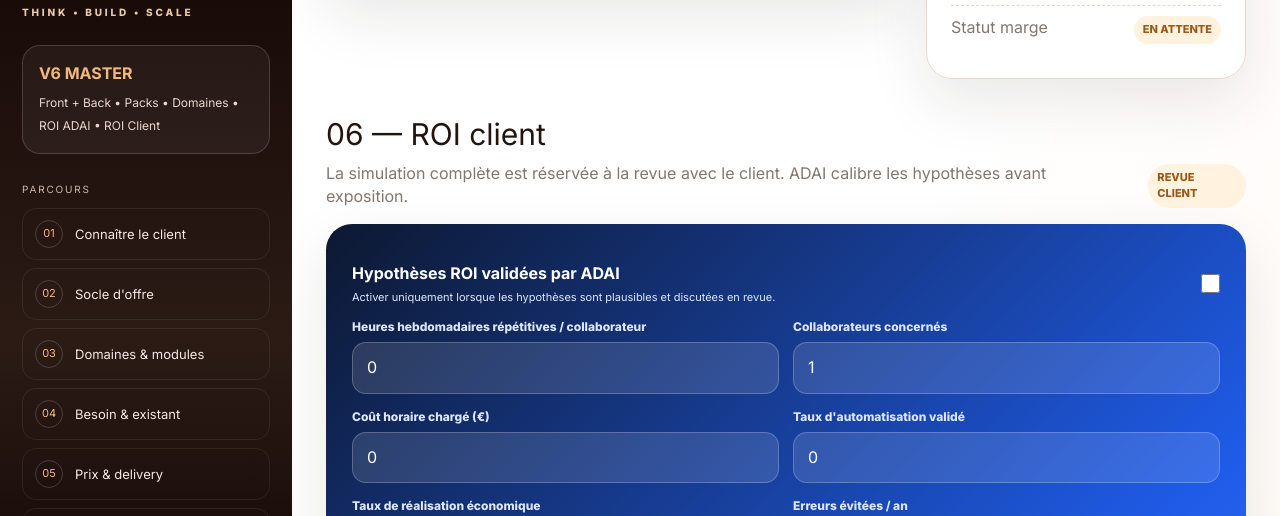
TC-13B — ROI CLIENT DISPLAY LOCK › shows ROI values after validation toggle
This screenshot has width=1280, height=516.
(page scrolled)
Click the checkbox labelled "Hypothèses ROI validées par ADAI".
click(1210, 284)  # box [1201,274,1220,294]
(page scrolled)
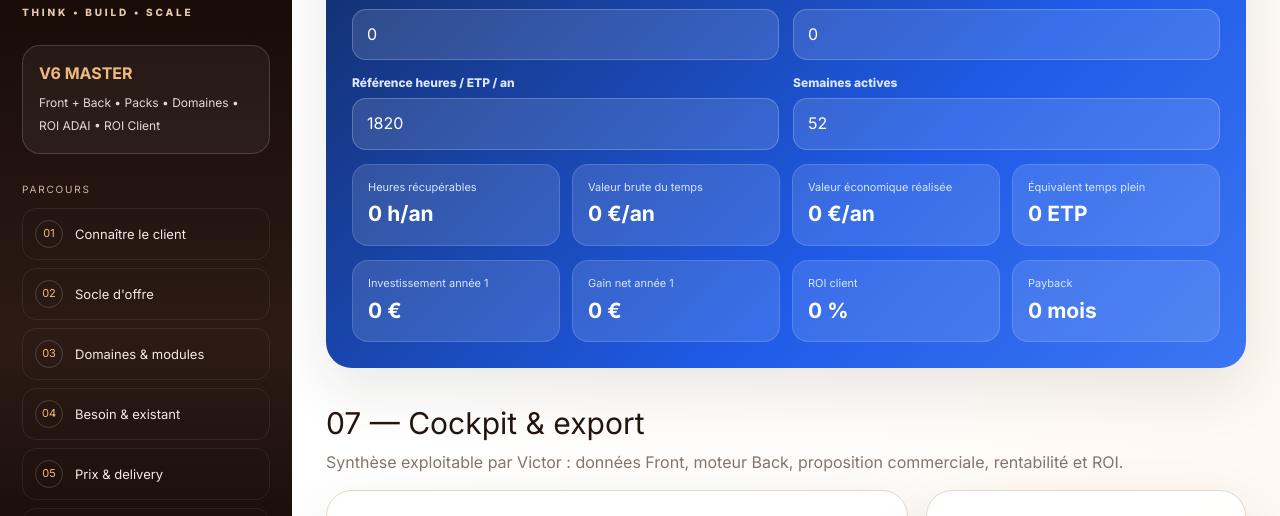
Expected: the text "Heures récupérables" is shown, [368,180,477,194]
Expected: the text "Valeur brute du temps" is shown, [588,180,703,194]
Expected: the text "Valeur économique réalisée" is shown, [808,180,952,194]
